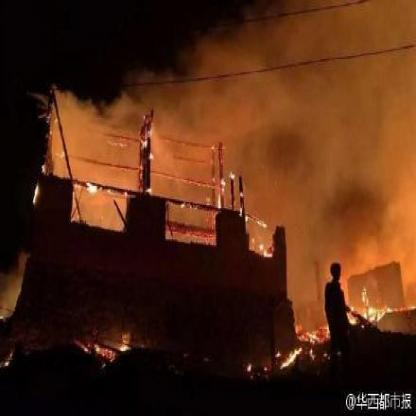smoke: (242, 122, 384, 250)
